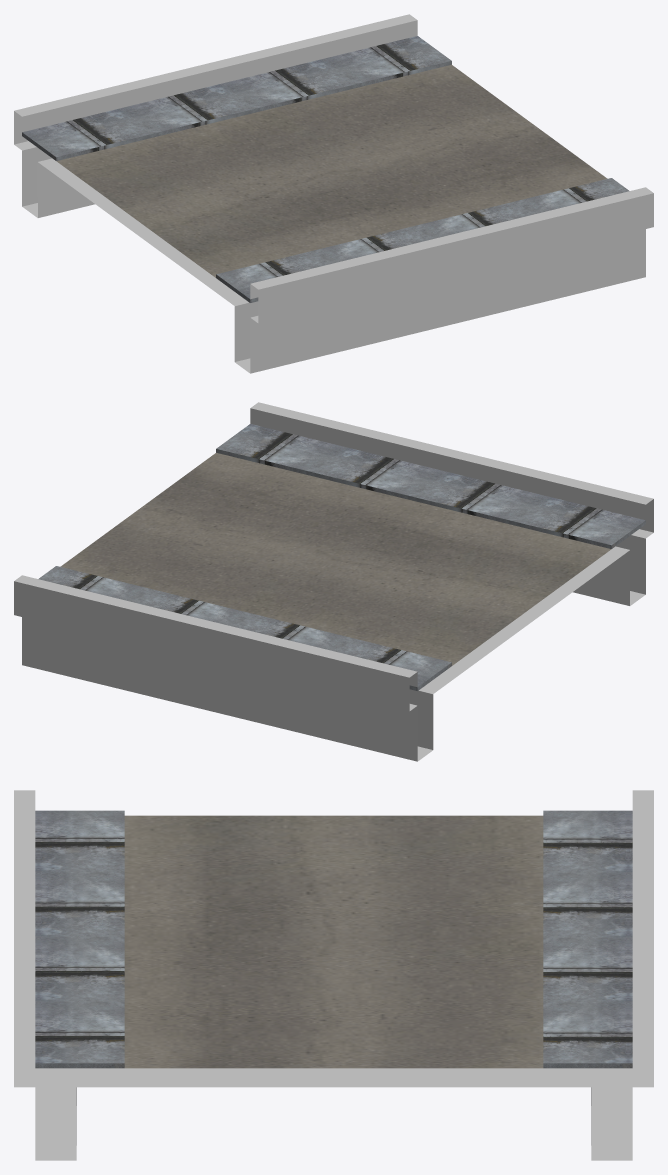
The model's file is Urban_Road3BridgeSegment_Model.fbx.
3 views of the same model, one above another, from view 1: azimuth 30°, elevation 25°; view 2: azimuth 150°, elevation 25°; view 3: azimuth 270°, elevation 25° (orthographic). The views are drawn at different scales.
Visible parts, largest first — view 1: Urban_Road3BridgeSegment_Mesh; view 2: Urban_Road3BridgeSegment_Mesh; view 3: Urban_Road3BridgeSegment_Mesh.
Boxes of the visible parts, <box> form: Urban_Road3BridgeSegment_Mesh: <box>14,14,653,373</box>; Urban_Road3BridgeSegment_Mesh: <box>14,402,653,761</box>; Urban_Road3BridgeSegment_Mesh: <box>14,790,653,1160</box>.
Size of the model in its own units: 16 by 3.48 by 17.13.
